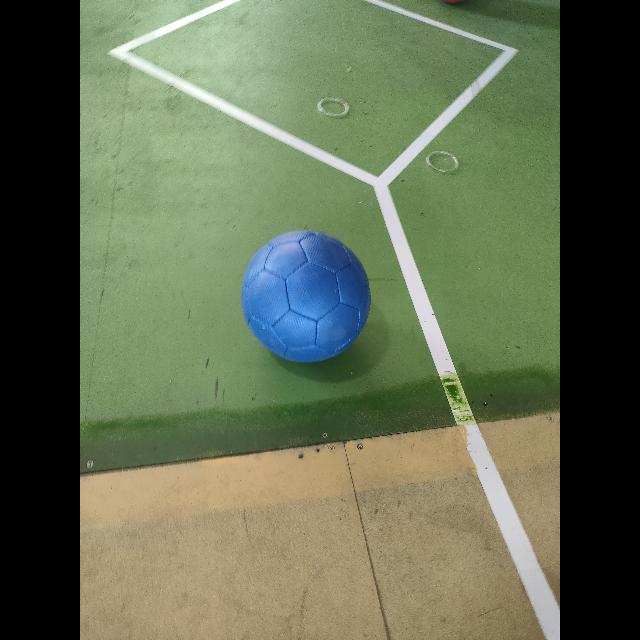B: (242, 230, 371, 362)
